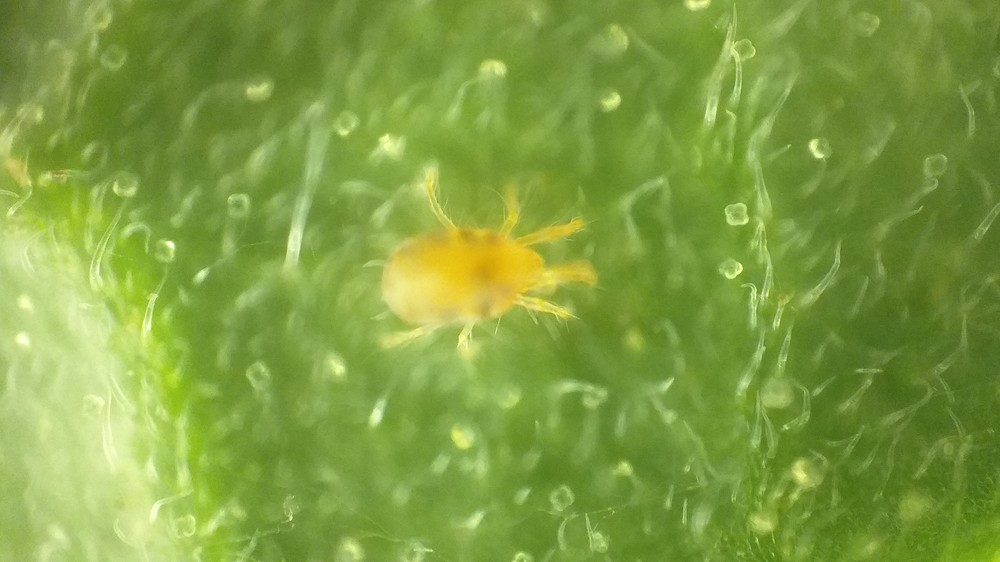Aracnido Rojo: (332, 169, 619, 353)
